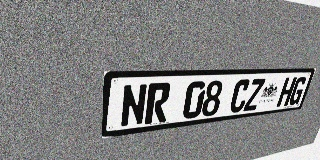0: (182, 81, 207, 120)
8: (200, 80, 225, 117)
C: (228, 79, 251, 113)
G: (287, 77, 308, 106)
H: (276, 77, 297, 107)
N: (120, 83, 148, 128)
R: (144, 82, 171, 124)
Z: (243, 78, 266, 111)
